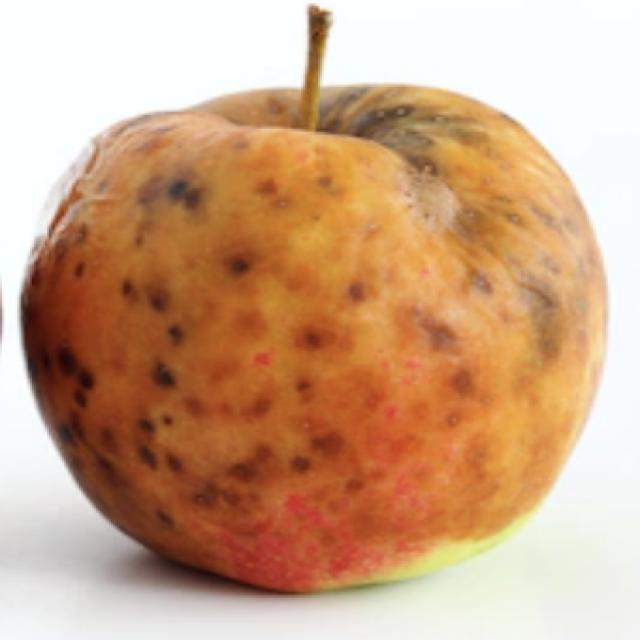Rotten: (21, 75, 615, 591)
